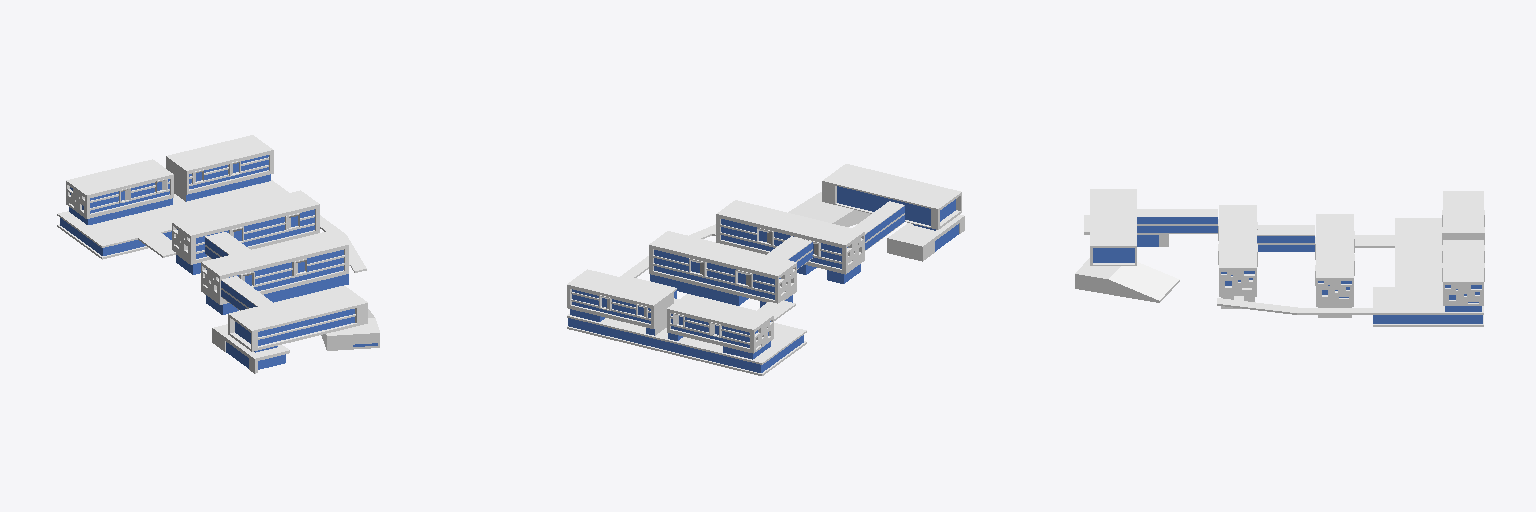
File: fix_normal_recalculate_outside_test.obj
The picture shows the model from 3 angles: view 1: azimuth 30°, elevation 25°; view 2: azimuth 150°, elevation 25°; view 3: azimuth 270°, elevation 25°; orthographic projection.
Visible parts, largest first — view 1: lod2; view 2: lod2; view 3: lod2.
Boxes of the visible parts, x1=… form: lod2: x1=57, y1=135, x2=379, y2=373; lod2: x1=567, y1=164, x2=964, y2=375; lod2: x1=1075, y1=189, x2=1484, y2=326.
Bounding box in the file's own units: 97.2 × 20.82 × 174.